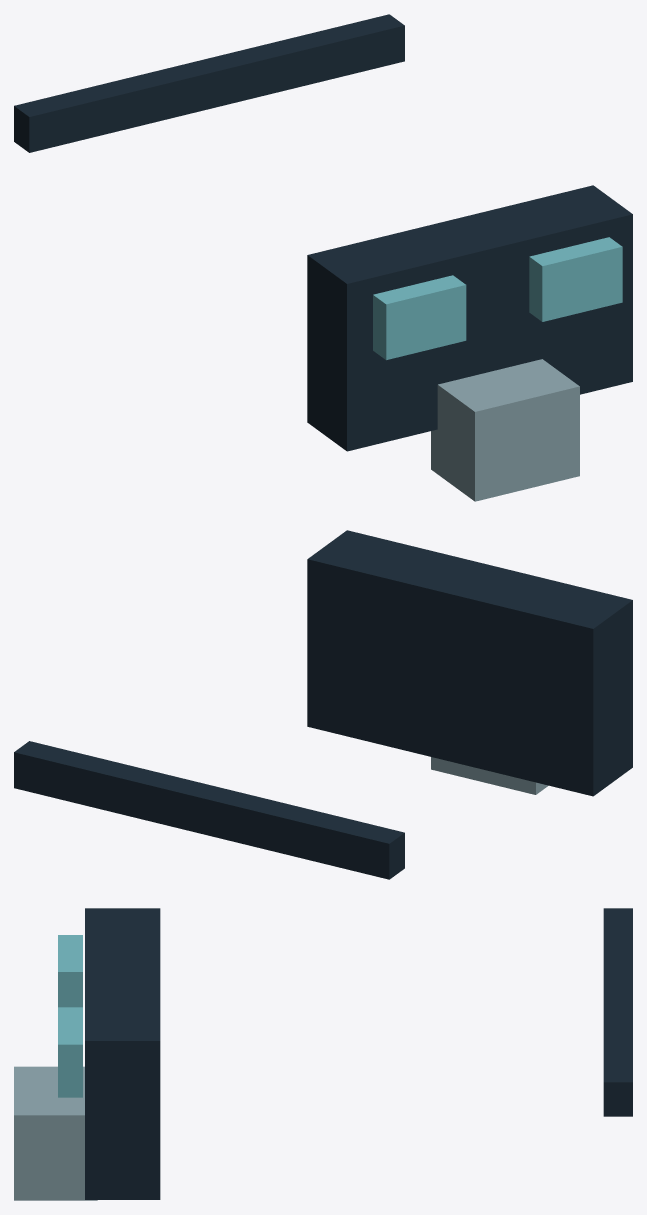
The model's file is oxygen-mask.glb.
3 renders of one model, top to bottom at view 1: azimuth 30°, elevation 25°; view 2: azimuth 150°, elevation 25°; view 3: azimuth 270°, elevation 25°, orthographic. The views are drawn at different scales.
Parts seen in each view (by area): view 1: oxygen_mask, mask_regulator; view 2: oxygen_mask, mask_regulator; view 3: oxygen_mask, mask_regulator.
Part boxes in pixels (x1,y1,x2,y2): oxygen_mask: [14, 14, 632, 451]; mask_regulator: [431, 359, 579, 501]; oxygen_mask: [14, 530, 632, 879]; mask_regulator: [431, 757, 548, 794]; oxygen_mask: [58, 908, 632, 1199]; mask_regulator: [14, 1066, 97, 1200].
Bounding box in the file's own units: 0.197 × 0.1065 × 0.296.
